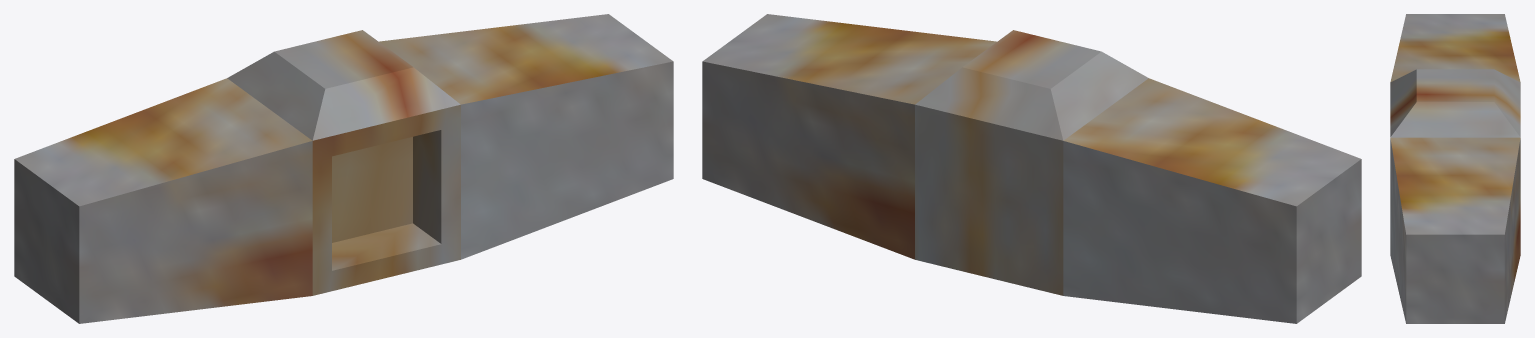
The model's file is cloning-device-cloner.fbx.
3 renders of one model, left to right at view 1: azimuth 30°, elevation 25°; view 2: azimuth 150°, elevation 25°; view 3: azimuth 270°, elevation 25°, orthographic. The views are drawn at different scales.
Parts seen in each view (by area): view 1: Cube.001; view 2: Cube.001; view 3: Cube.001.
Part boxes in pixels (x1,y1,x2,y2): Cube.001: (14,14,673,323); Cube.001: (702,14,1361,323); Cube.001: (1390,14,1520,323).
Bounding box in the file's own units: 802 × 241 × 200.
